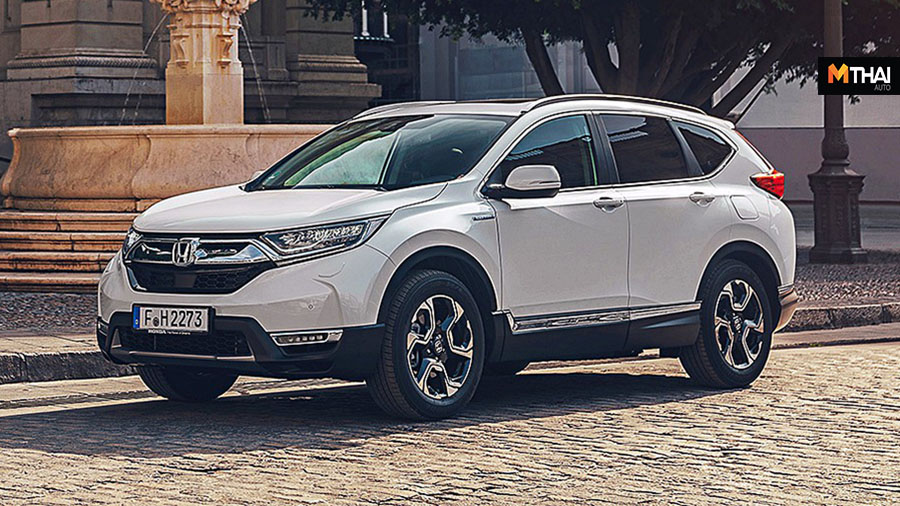pickup: (94, 93, 805, 422)
